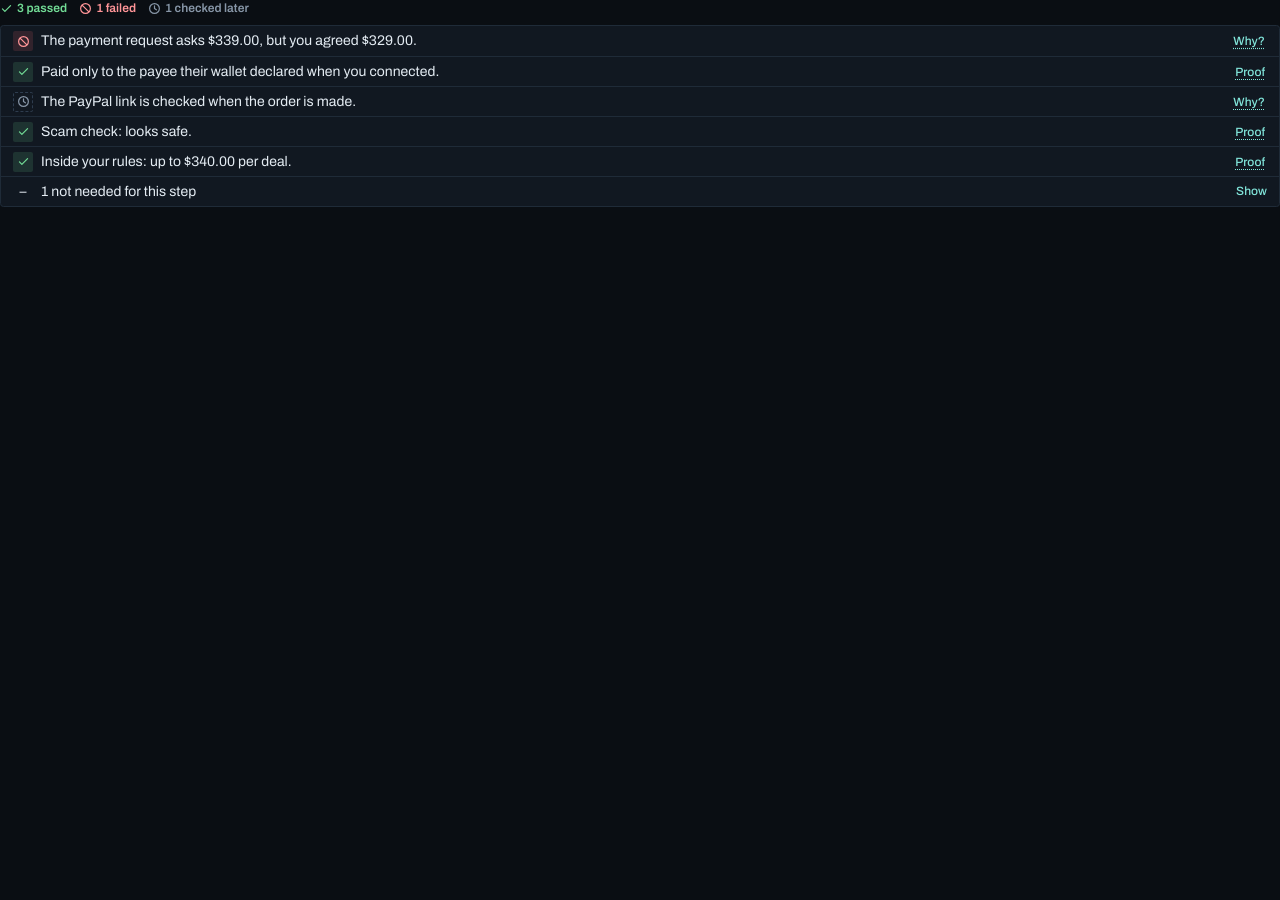
WalletChecks › keeps the Layer-2 fact behind Why? / Proof
The width and height of the screenshot is (1280, 900).
Check: the text "SETTLE amount 339.00 USD" is not shown
# each link is named by its word plus the check it explains (unique for screen readers)
Click the button with aria-label "Why?, " at (1249, 41), box [1231, 35, 1267, 47]
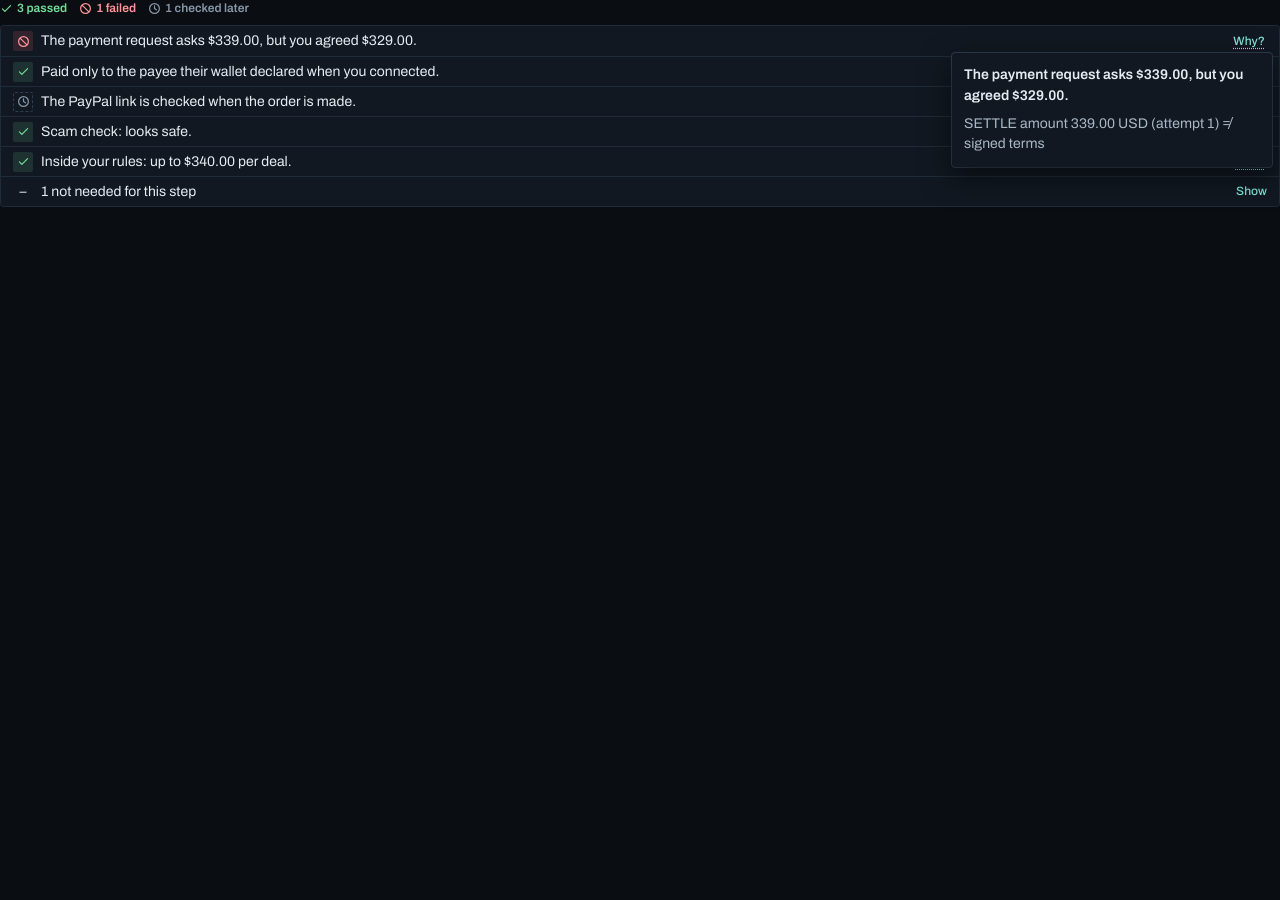
Check: the text "SETTLE amount 339.00 USD (attempt 1) ≠ signed terms" is shown, box [964, 114, 1260, 155]
